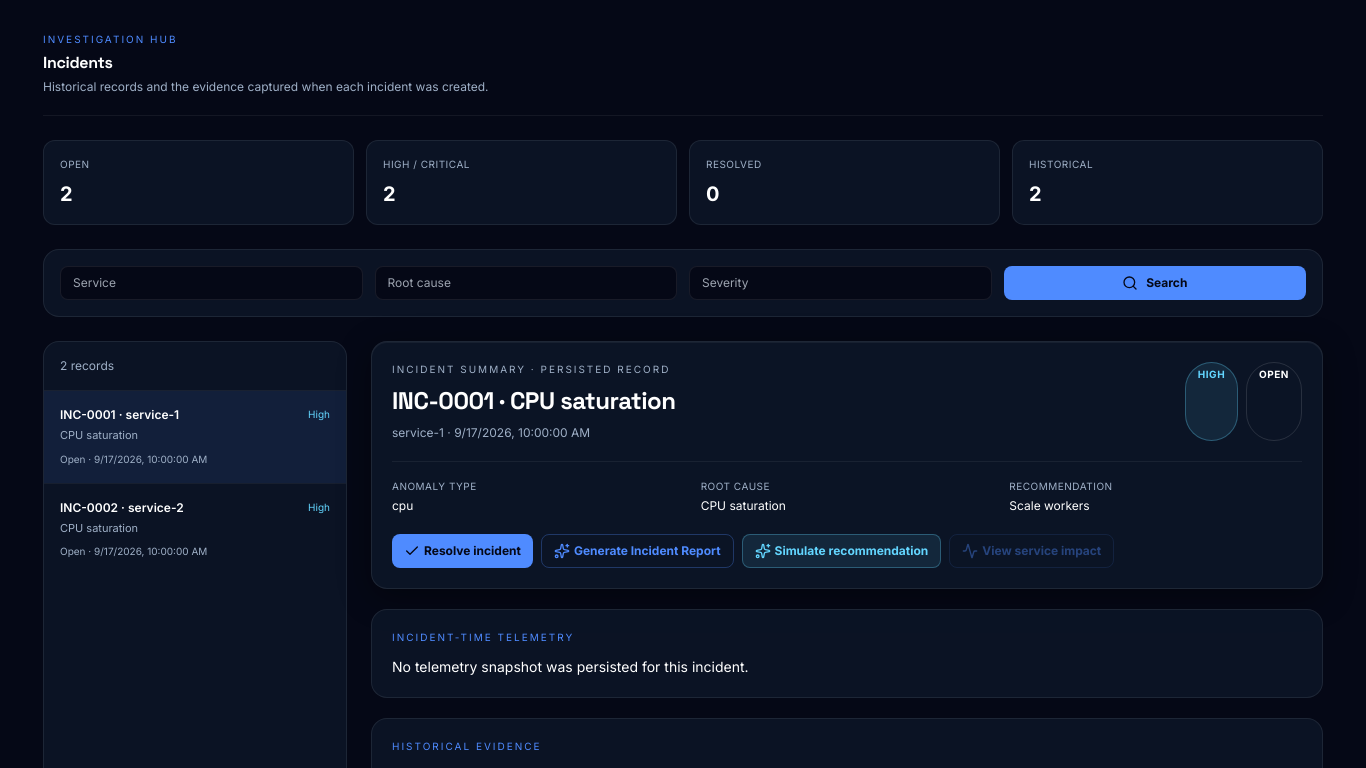
Test: incident investigation summary integration › fetches a new summary when the selected incident changes
This screenshot has width=1366, height=768.
Check: the text "INC-0001 · service-1" is shown, box 60,407 -> 179,423
Step 1. Click the text "INC-0002 · service-2" → (122, 508), box 60,500 -> 184,516
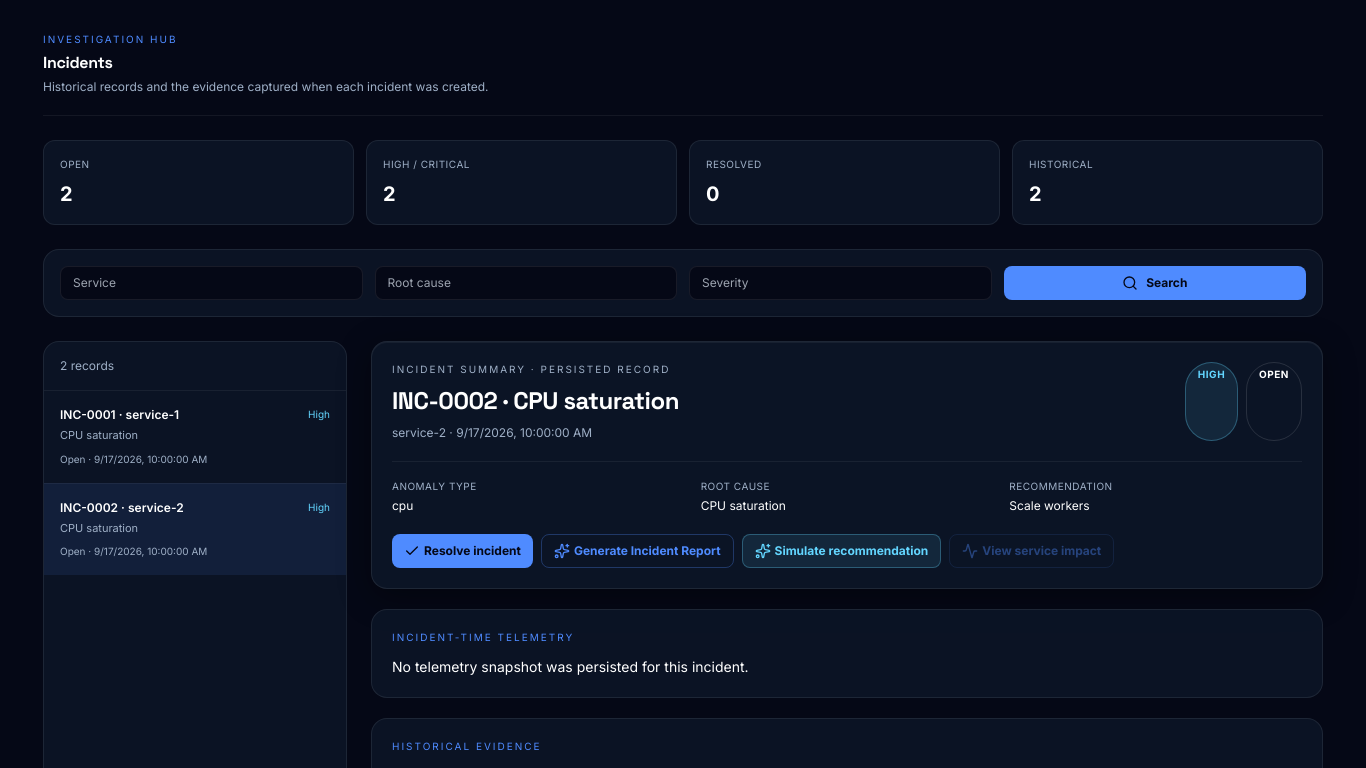
Check: the heading "INC-0002 · CPU saturation" is shown, box 392,385 -> 679,417
